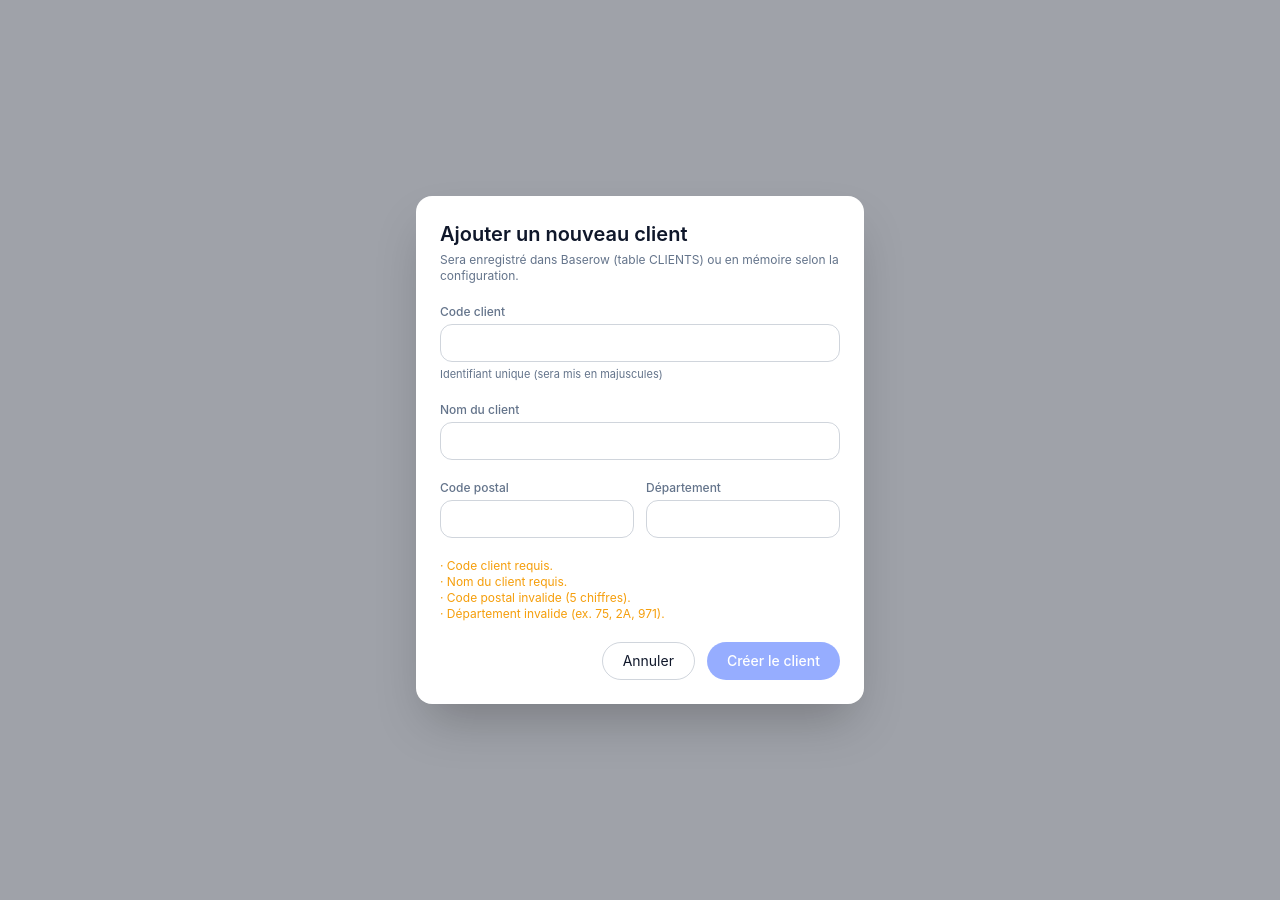
NewClientModal › disables the submit button while the form is invalid
Check: the button "Créer le client" is disabled, box [707,642,840,680]
Step 1. Type "c1" into the field labelled "Code client" → (640, 343), box [440,324,840,362]
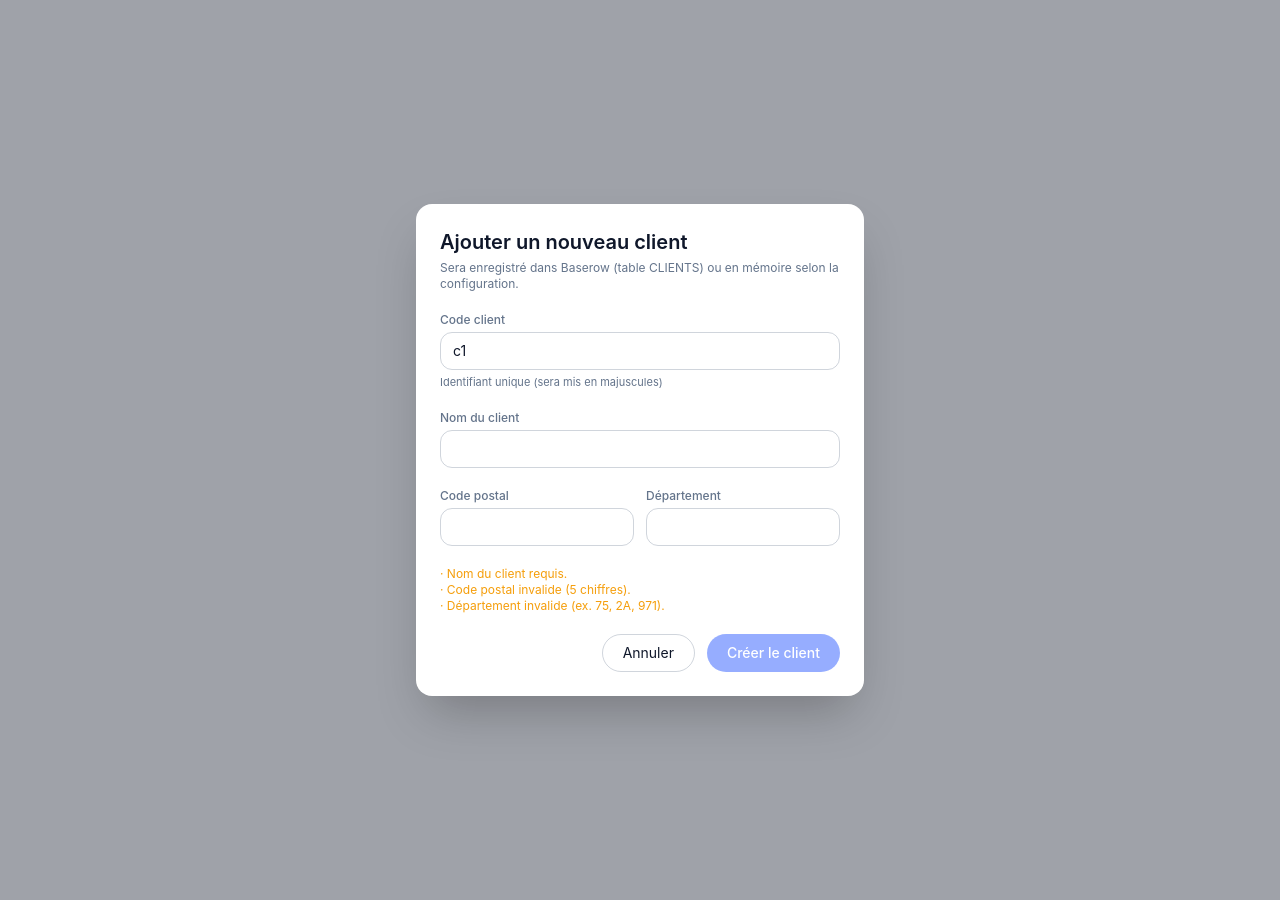
Step 2. Type "X" into the field labelled "Nom du client" → (640, 449), box [440,430,840,468]
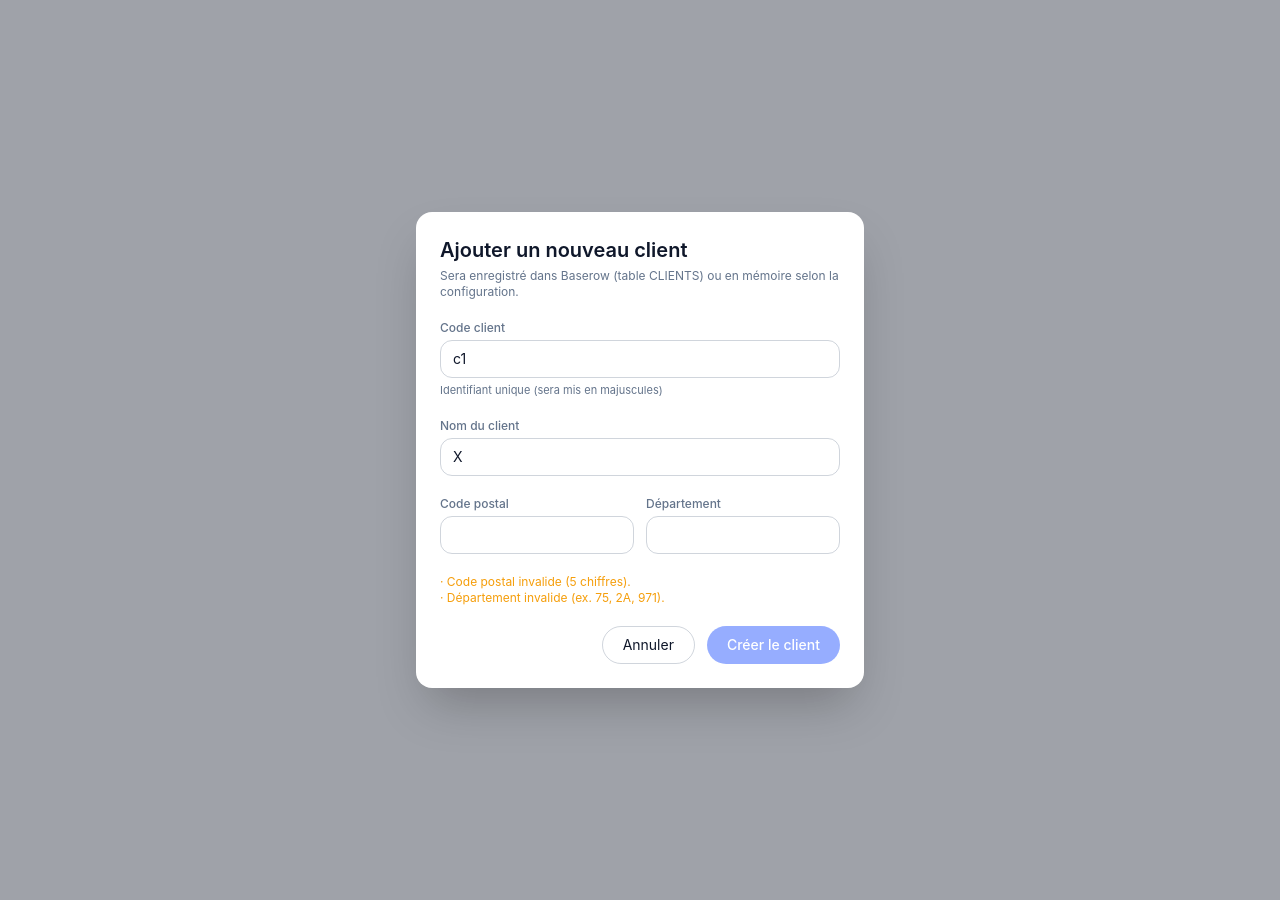
Step 3. Type "7501" into the field labelled "Code postal" → (537, 535), box [440,516,634,554]
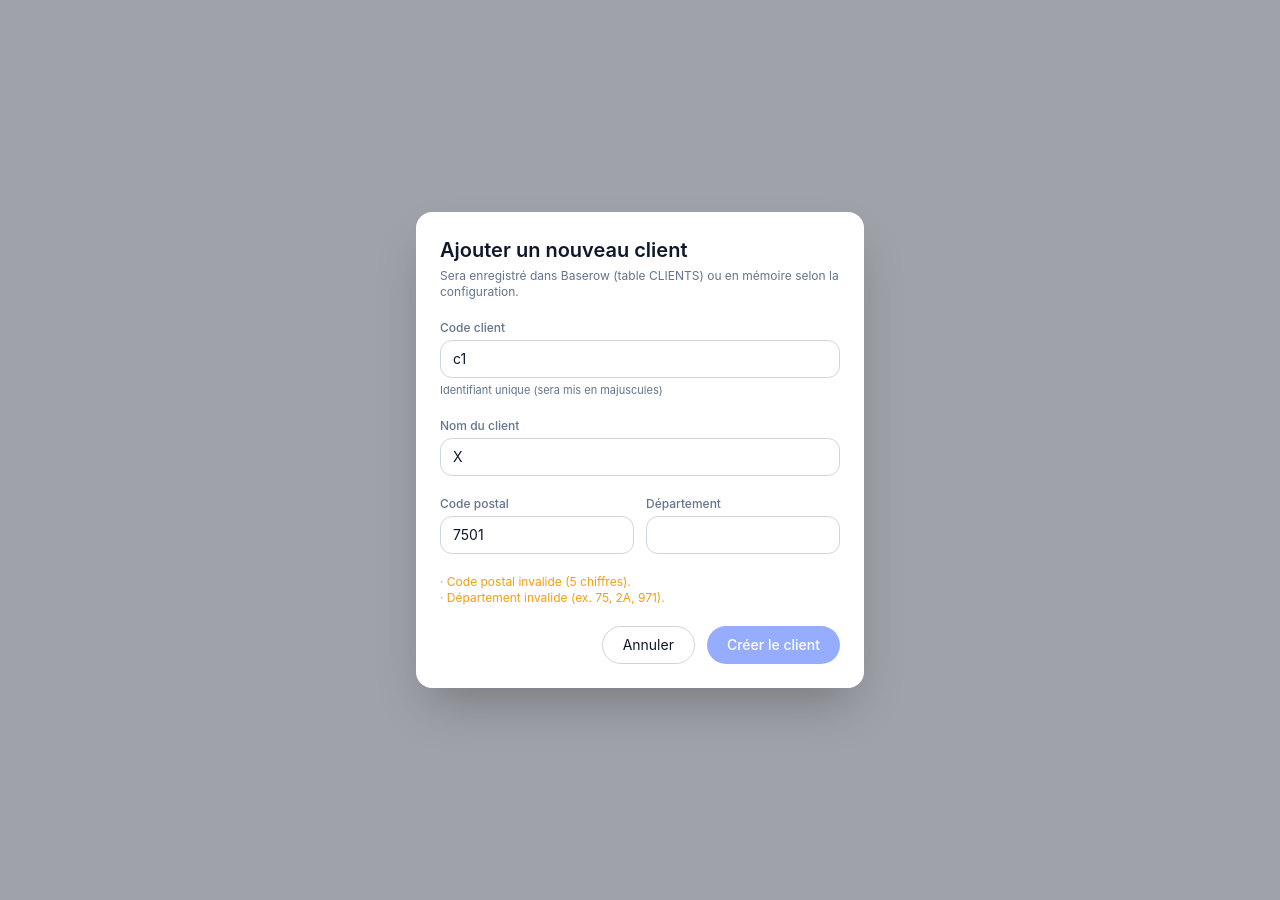
Check: the button "Créer le client" is disabled, box [707,626,840,664]
Step 4. Replace the text in the field labelled "Code postal" with "75015" → (537, 535), box [440,516,634,554]
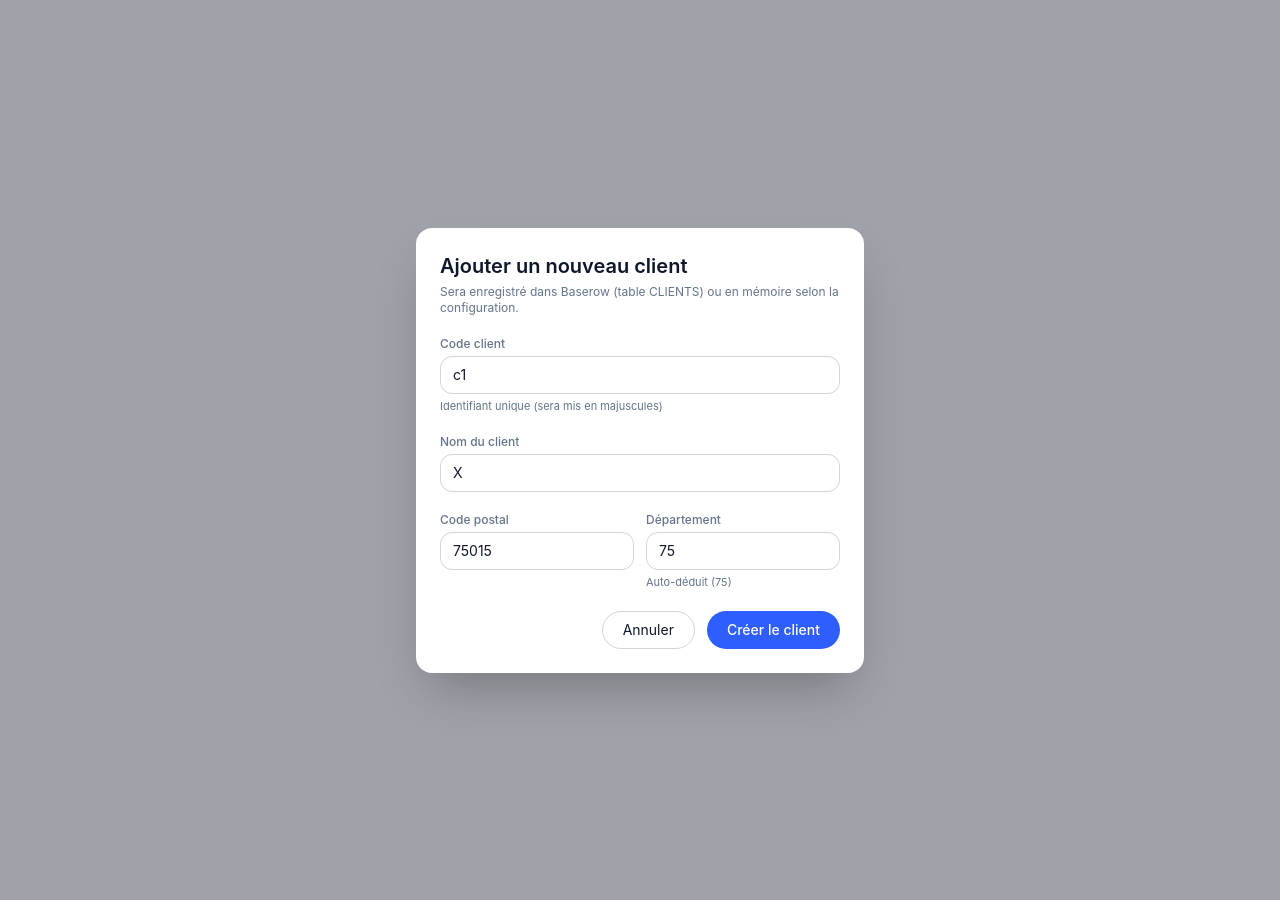
Check: the button "Créer le client" is enabled, box [707,610,840,648]
